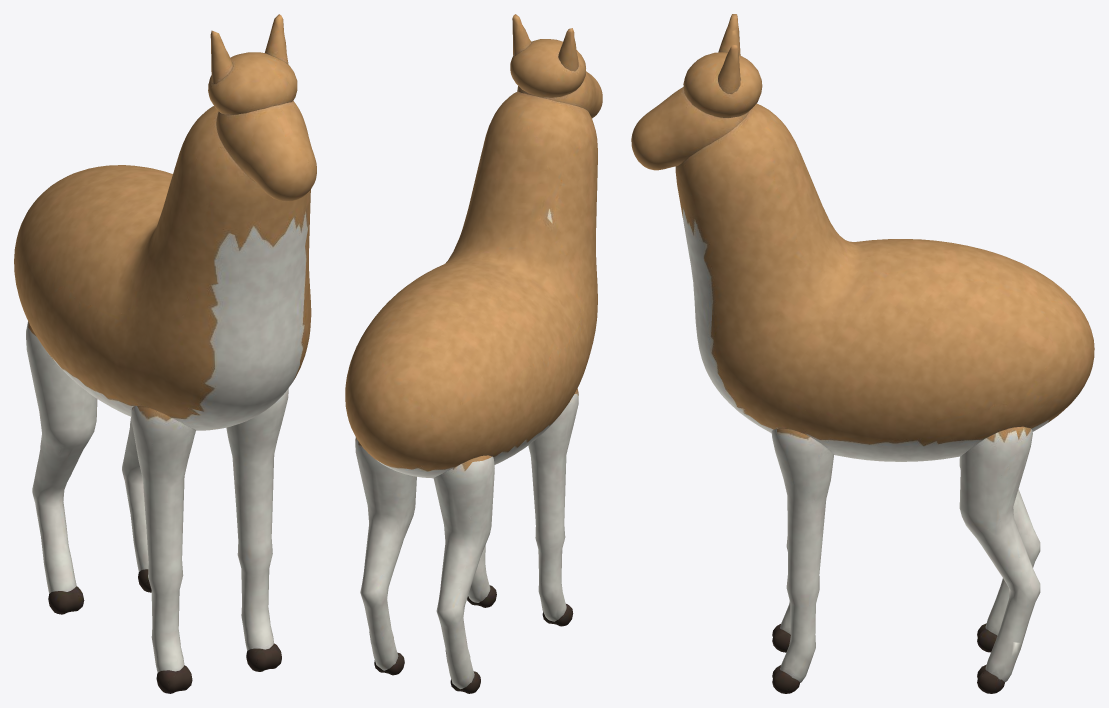
The model's file is animal_vicuna.glb.
The picture shows the model from 3 angles, left to right: view 1: azimuth 30°, elevation 25°; view 2: azimuth 150°, elevation 25°; view 3: azimuth 270°, elevation 25°; orthographic projection. The views are drawn at different scales.
Parts seen in each view (by area): view 1: animal_vicuna, head, leg0, leg2, leg1, leg3; view 2: animal_vicuna, leg2, leg3, leg0, head, leg1; view 3: animal_vicuna, leg3, head, leg1, leg2.
Part boxes in pixels (<box>): animal_vicuna: <box>14,106,311,430</box>; head: <box>208,14,316,201</box>; leg0: <box>131,406,195,693</box>; leg2: <box>26,321,97,614</box>; leg1: <box>226,388,288,671</box>; leg3: <box>122,417,151,592</box>; animal_vicuna: <box>345,91,597,478</box>; leg2: <box>433,455,494,693</box>; leg3: <box>355,437,416,675</box>; leg0: <box>528,388,578,626</box>; head: <box>510,14,602,118</box>; leg1: <box>467,545,496,607</box>; animal_vicuna: <box>675,103,1094,461</box>; leg3: <box>959,426,1040,693</box>; head: <box>631,14,762,170</box>; leg1: <box>771,428,833,693</box>; leg2: <box>959,456,1040,652</box>.
Bounding box in the file's own units: 0.2165 × 0.6857 × 0.4493.
Materials: 1 (1 with a texture image).
